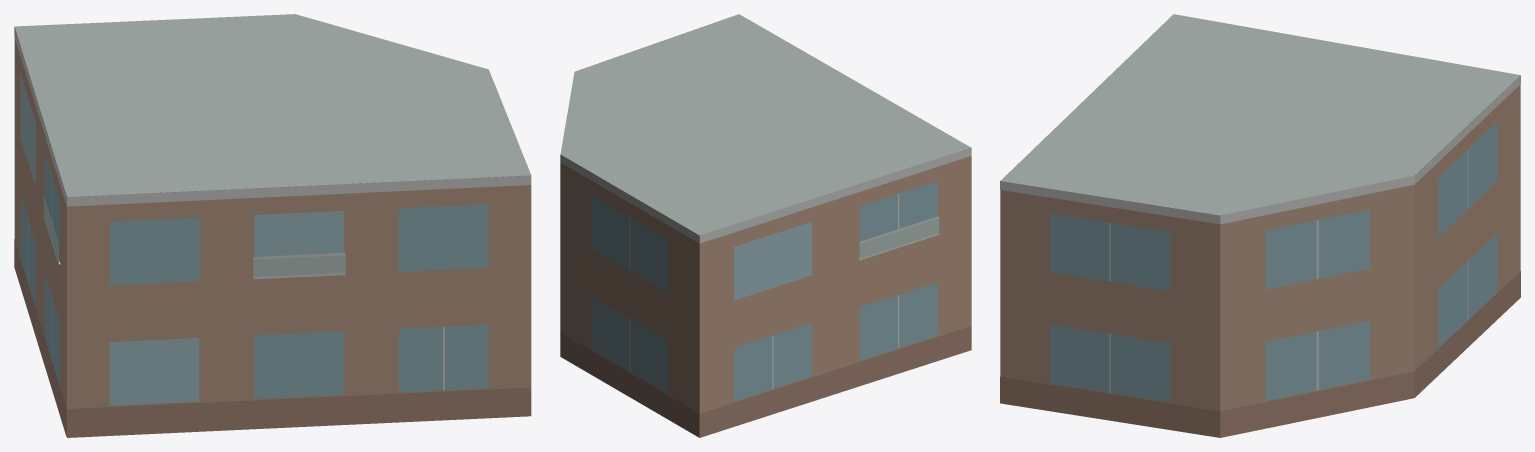
Rendered from survey-upis-32528890.glb.
3 views of the same model, side by side, from view 1: azimuth 30°, elevation 25°; view 2: azimuth 150°, elevation 25°; view 3: azimuth 270°, elevation 25° (orthographic). The views are drawn at different scales.
Parts seen in each view (by area): view 1: survey-upis-32528890.tmp; view 2: survey-upis-32528890.tmp; view 3: survey-upis-32528890.tmp.
Part boxes in pixels (<box>): survey-upis-32528890.tmp: <box>14,14,531,437</box>; survey-upis-32528890.tmp: <box>560,14,971,437</box>; survey-upis-32528890.tmp: <box>1000,14,1520,437</box>.
Size of the model in its own units: 11.87 by 6.1 by 12.95.
